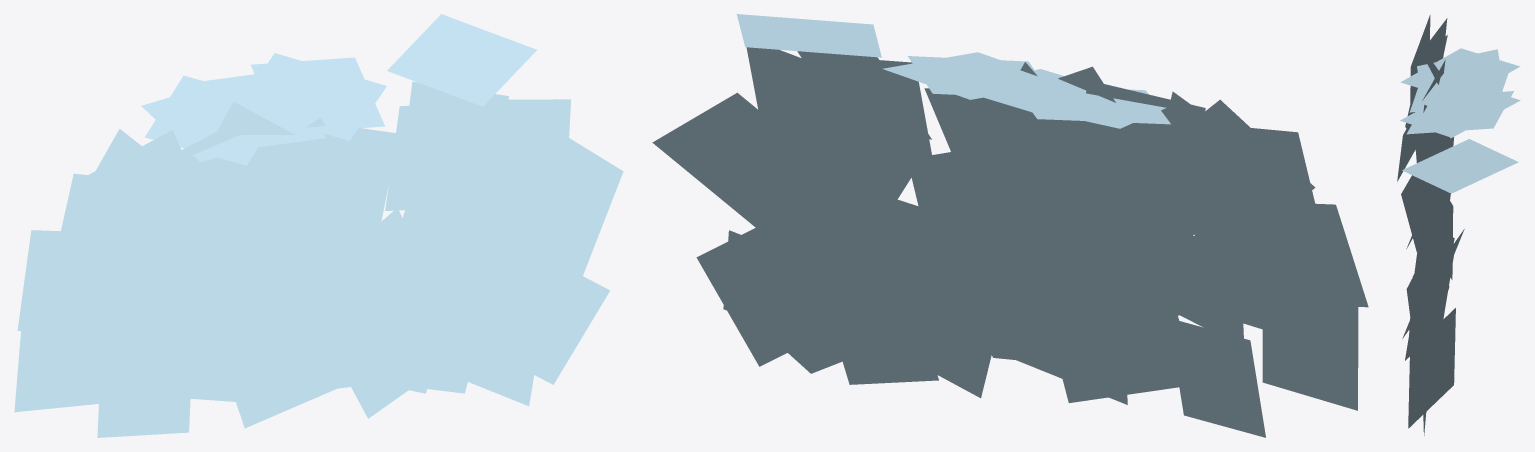
Rendered from ivy_low.gltf.
3 views of the same model, side by side, from view 1: azimuth 30°, elevation 25°; view 2: azimuth 150°, elevation 25°; view 3: azimuth 270°, elevation 25° (orthographic). The views are drawn at different scales.
Parts seen in each view (by area): view 1: ivy_low_Leaf_Ivy; view 2: ivy_low_Leaf_Ivy; view 3: ivy_low_Leaf_Ivy.
Boxes of the visible parts, left/top/right/bottom form: ivy_low_Leaf_Ivy: left=14, top=14, right=623, bottom=437; ivy_low_Leaf_Ivy: left=652, top=14, right=1368, bottom=437; ivy_low_Leaf_Ivy: left=1397, top=15, right=1520, bottom=435.
Bounding box in the file's own units: 2.95 × 1.62 × 0.6742.
